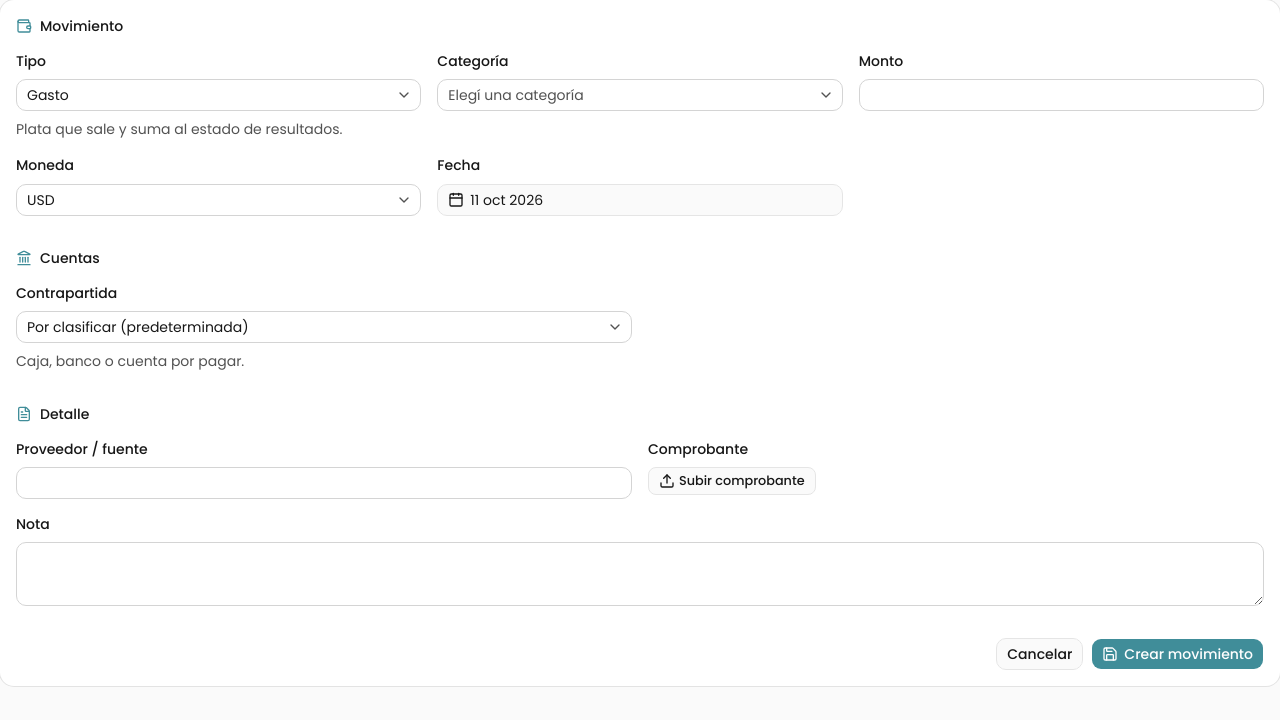
it: FinanceEntryForm — una transferencia necesita sus dos cuentas › no deja guardar sin cuenta de origen ni de destino
Click the dropdown named "Tipo". click: (48, 95)
box: [16,79,421,111]
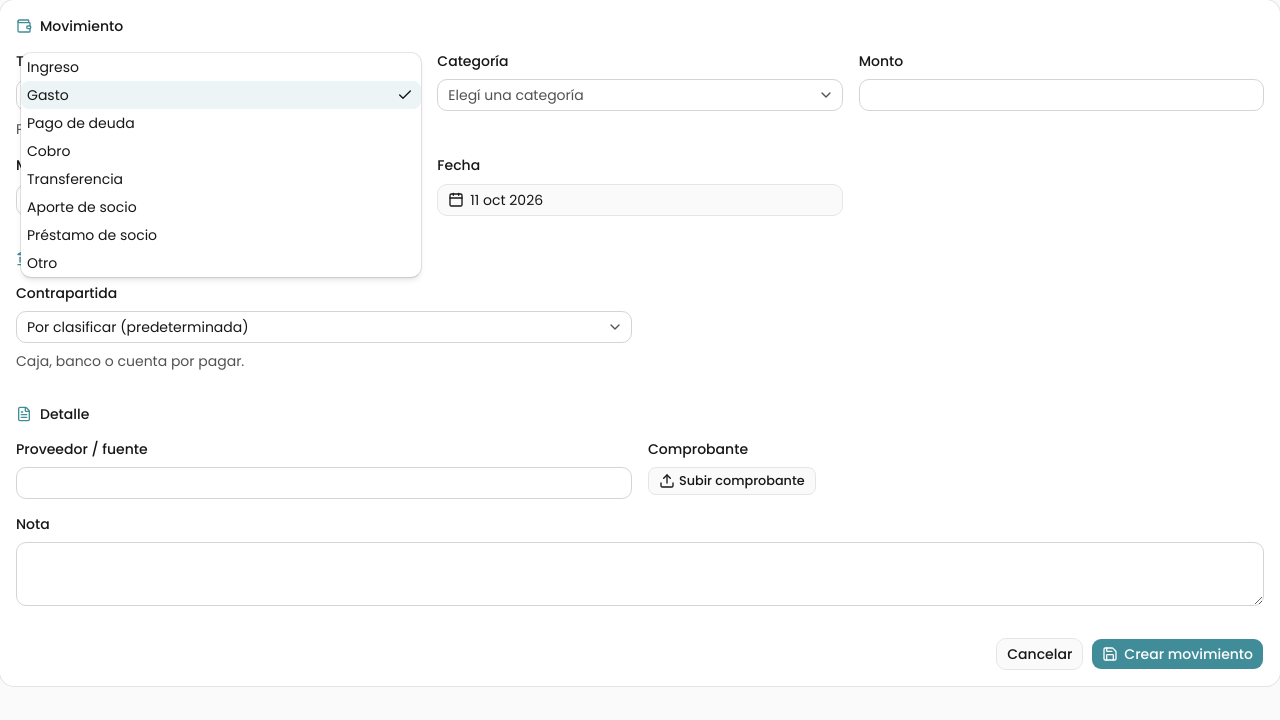
Click the option "Transferencia". click: (75, 179)
box: [27,169,123,189]
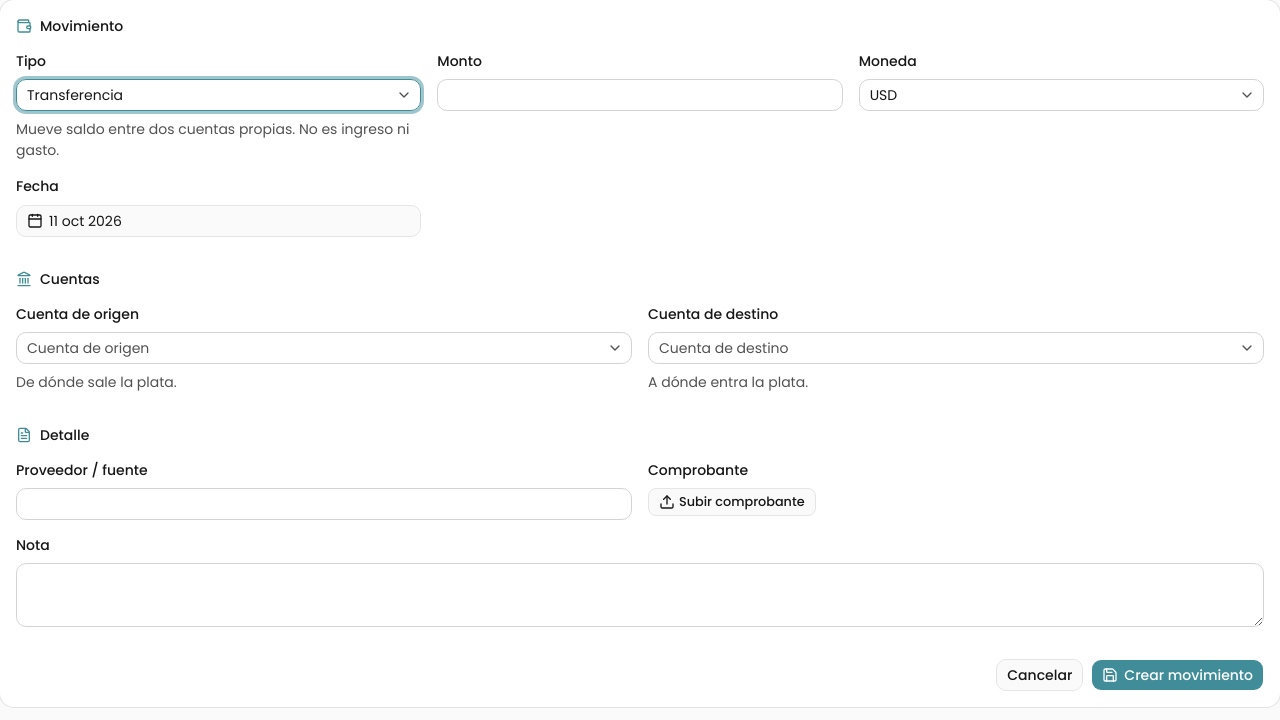
Click the dropdown named "Moneda". click: (883, 95)
box: [859,79,1264,111]
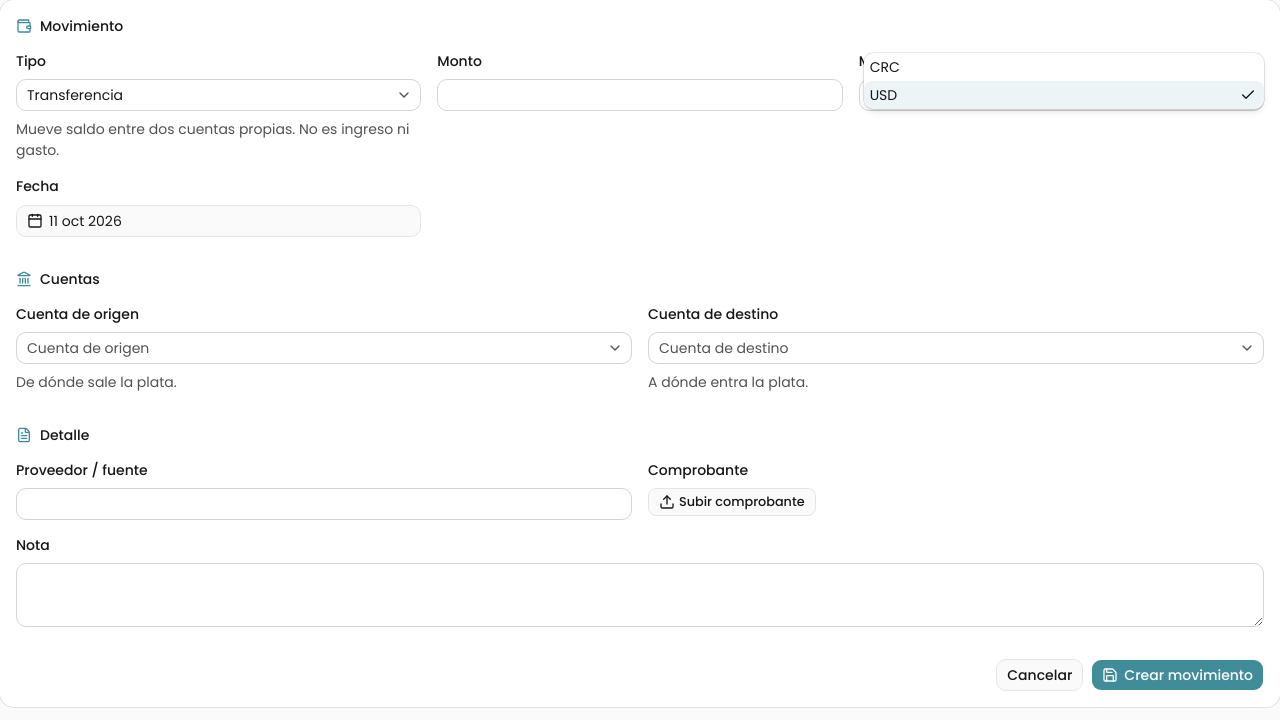
Click the option "CRC". click: (885, 67)
box: [870,57,900,77]
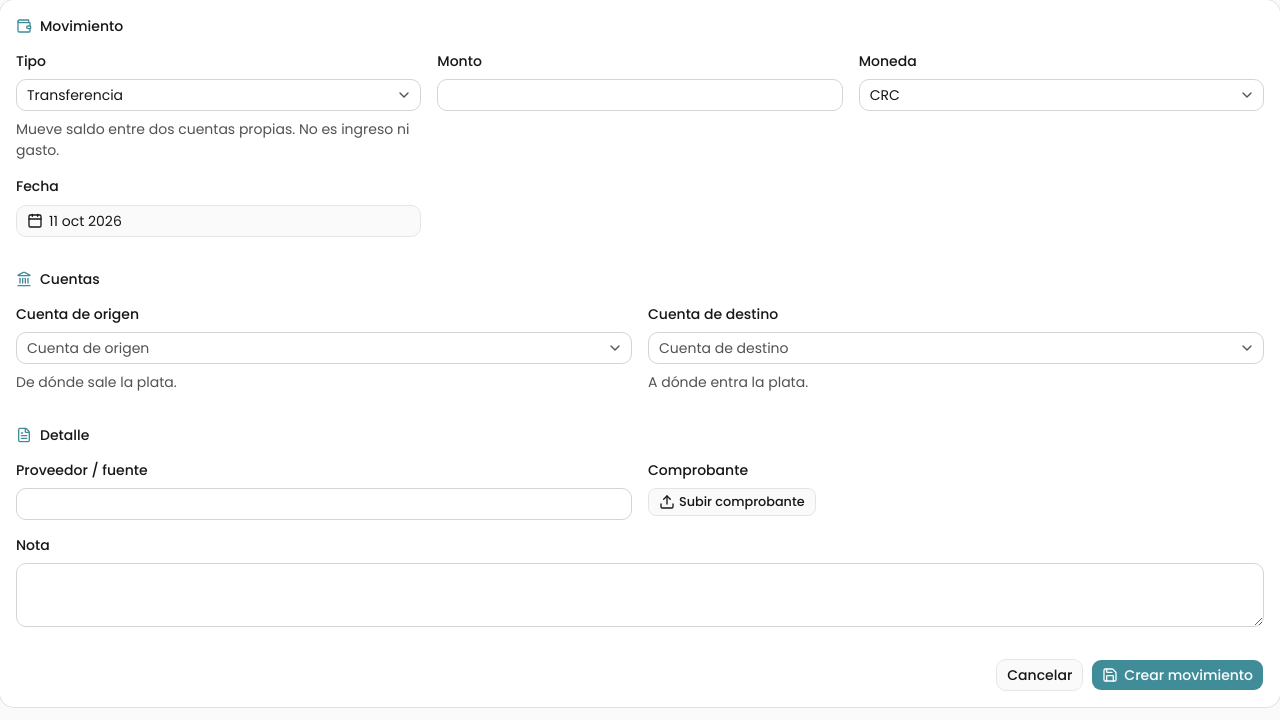
Type "5000" into the field labelled "Monto". click: (640, 95)
box: [437,79,843,111]
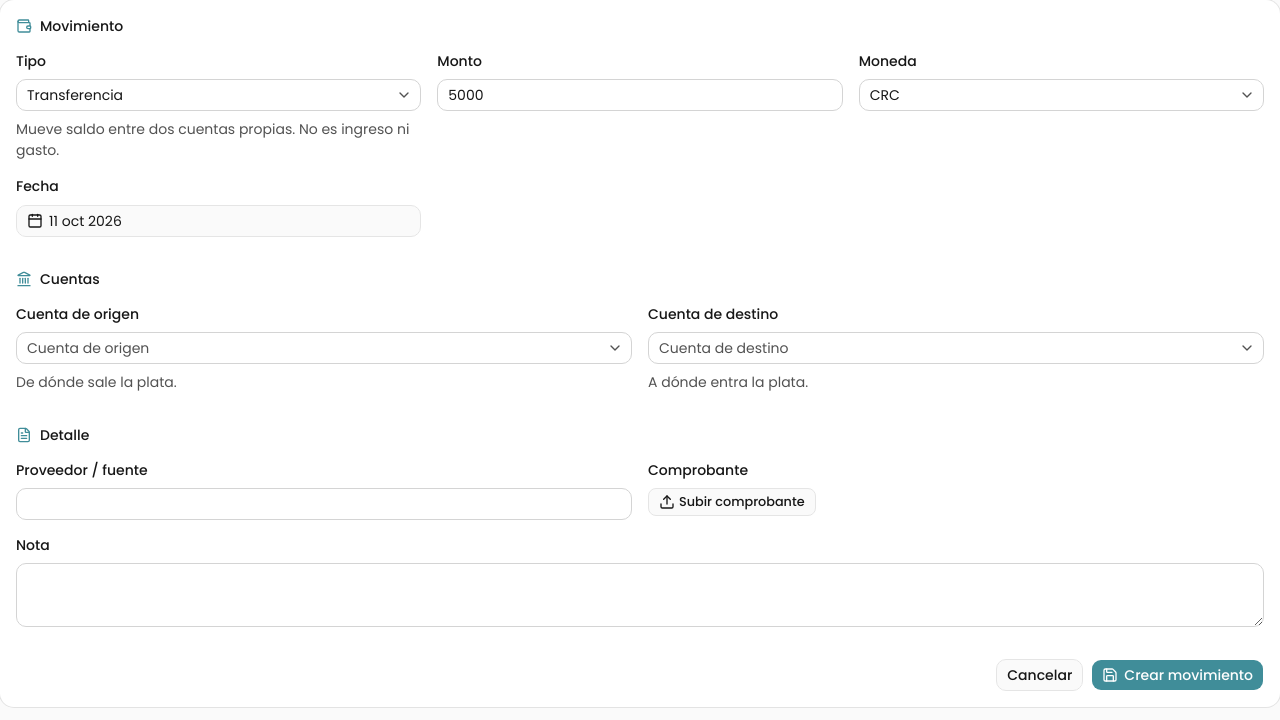
Click the button "Crear movimiento". click: (1178, 675)
box: [1091,659,1264,691]
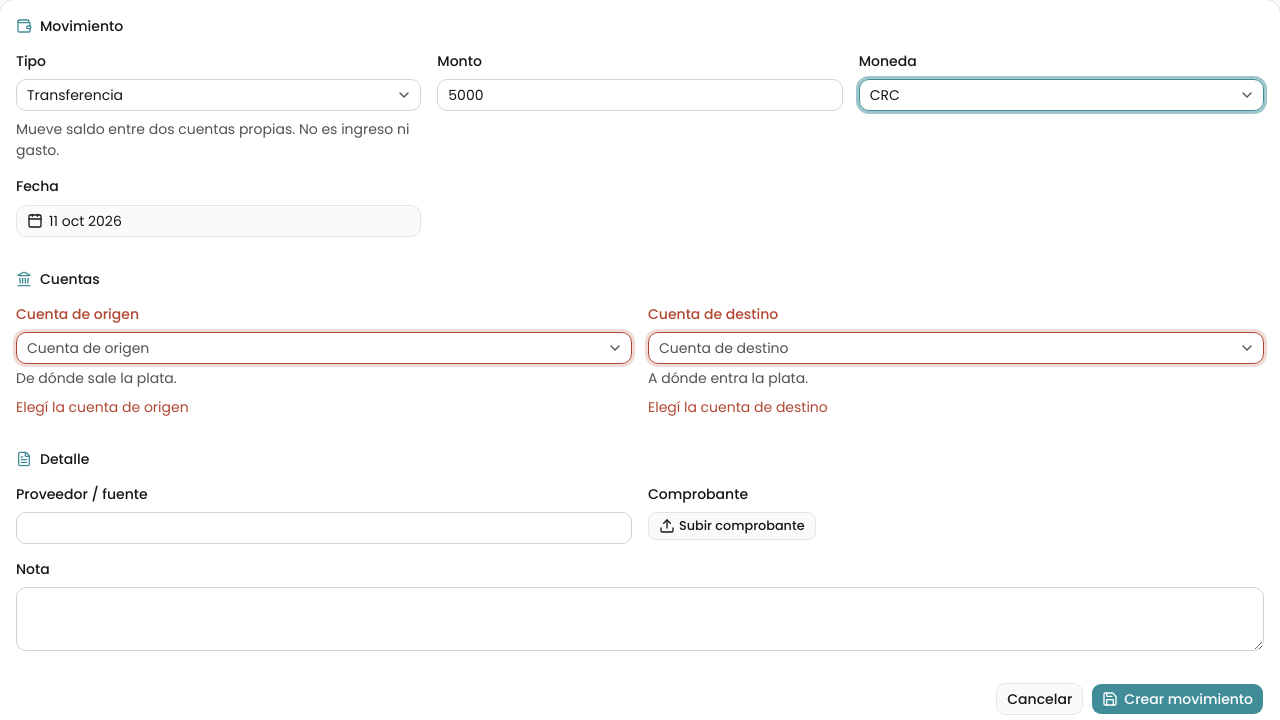
Result: the text "Elegí la cuenta de origen" is shown at [16,397,189,417]
Result: the text "Elegí la cuenta de destino" is shown at [648,397,828,417]
